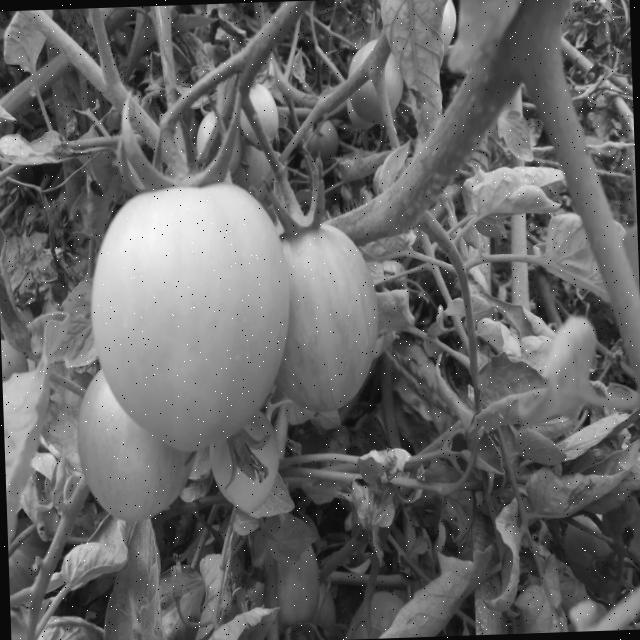Unripe: (87, 177, 296, 456)
